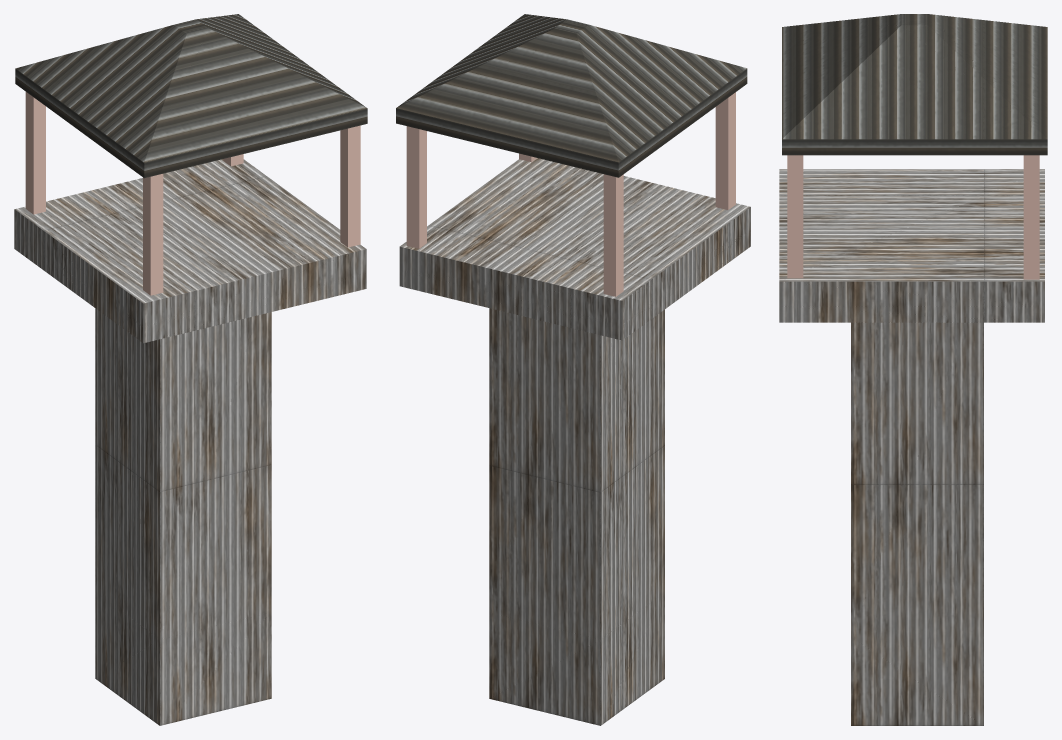
The model's file is FireTower.glb.
3 renders of one model, left to right at view 1: azimuth 30°, elevation 25°; view 2: azimuth 150°, elevation 25°; view 3: azimuth 270°, elevation 25°, orthographic. The views are drawn at different scales.
Visible parts, largest first — view 1: mergedBlocks(Clone); view 2: mergedBlocks(Clone); view 3: mergedBlocks(Clone).
Part boxes in pixels (<box>): mergedBlocks(Clone): <box>14,14,367,725</box>; mergedBlocks(Clone): <box>396,14,750,725</box>; mergedBlocks(Clone): <box>779,14,1047,725</box>.
Bounding box in the file's own units: 1.01 × 2.83 × 1.01.
3 materials, 2 textured.
